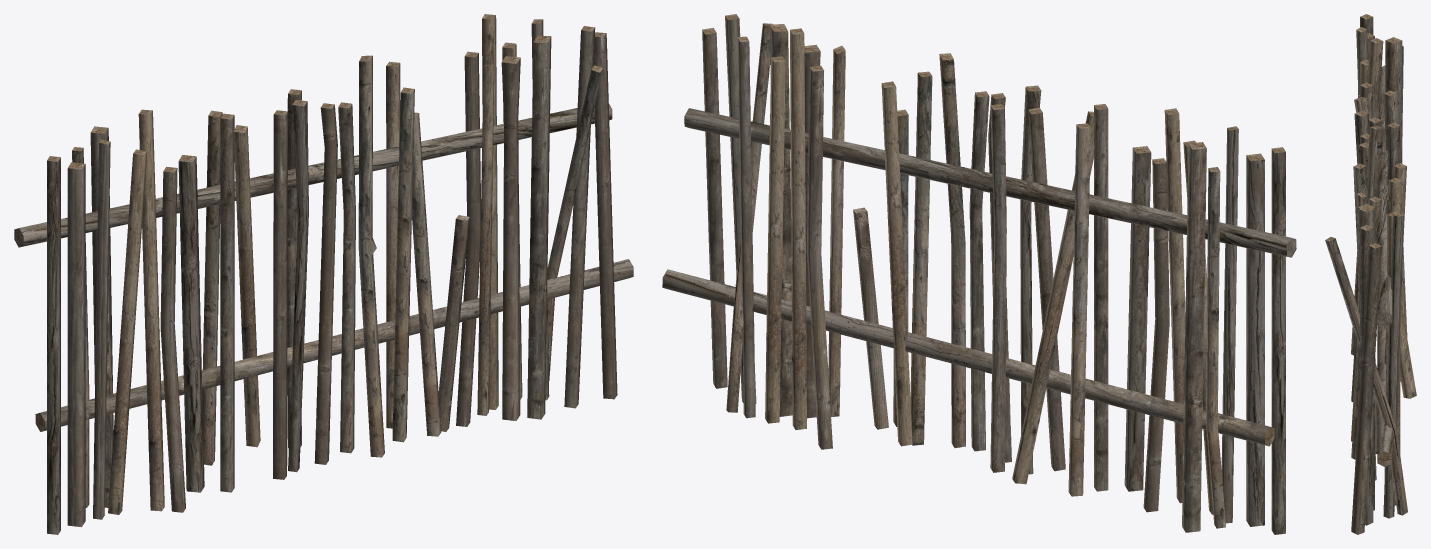
The model's file is Fence1.fbx.
3 renders of one model, left to right at view 1: azimuth 30°, elevation 25°; view 2: azimuth 150°, elevation 25°; view 3: azimuth 270°, elevation 25°, orthographic. The views are drawn at different scales.
Parts seen in each view (by area): view 1: polySurface169; view 2: polySurface169; view 3: polySurface169.
Boxes of the visible parts, x1,y1,x2,y2 form: polySurface169: [14, 14, 633, 534]; polySurface169: [662, 14, 1296, 534]; polySurface169: [1325, 14, 1416, 534].
Bounding box in the file's own units: 2.4 × 1.51 × 0.3862.
